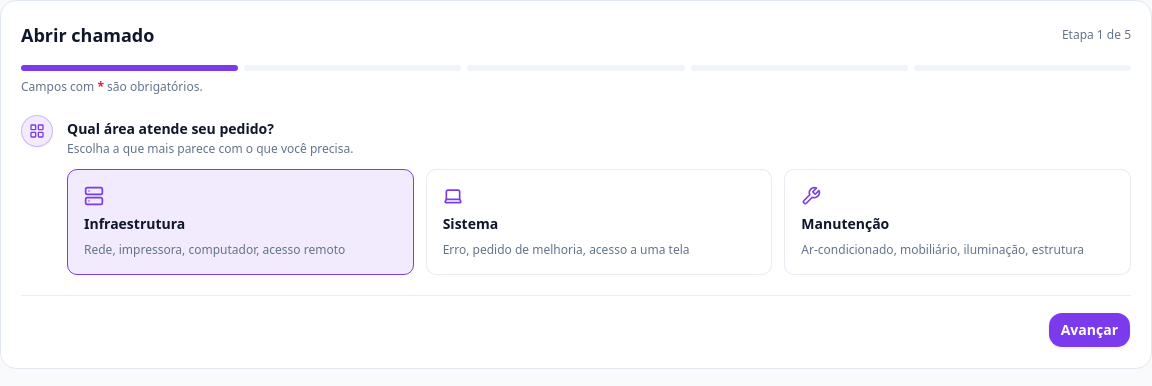
Test: AcerolaOpenTicketForm › shows each validation error next to its own field, never as a summary on top
Click the button "Avançar" at (1089, 330), box left=1048, top=312, right=1131, bottom=348
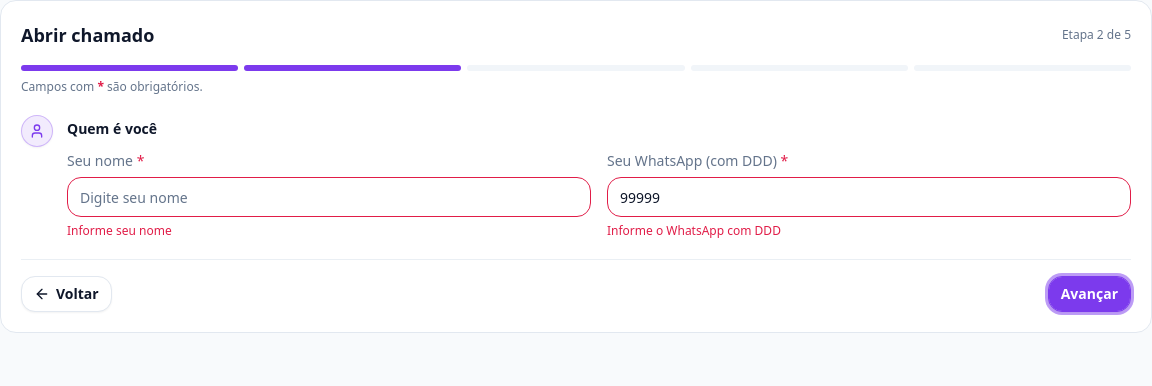
Check: the text "Informe seu nome" is shown, box left=67, top=222, right=172, bottom=239
Check: the text "Informe o WhatsApp com DDD" is shown, box left=607, top=222, right=781, bottom=239
